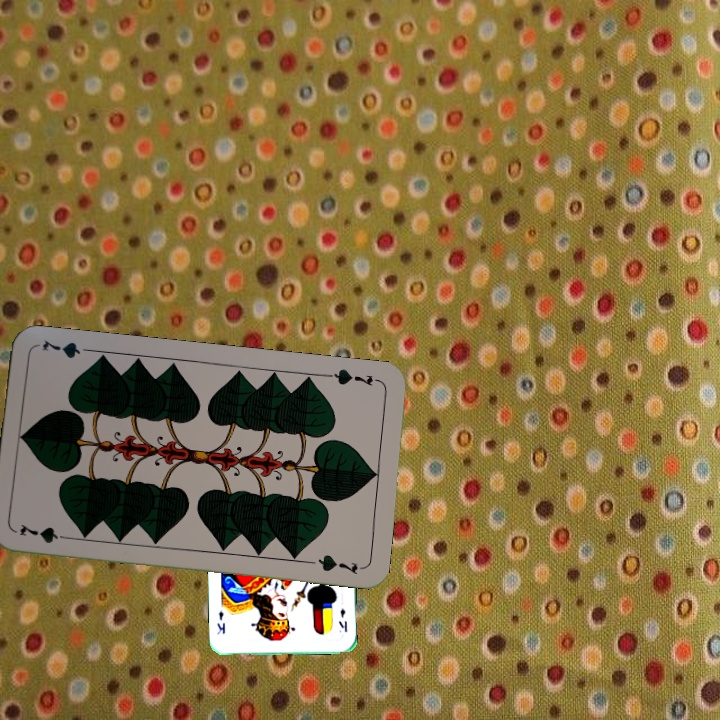EK: (335, 605, 350, 635)
G7: (15, 520, 75, 546), (323, 365, 382, 389)
